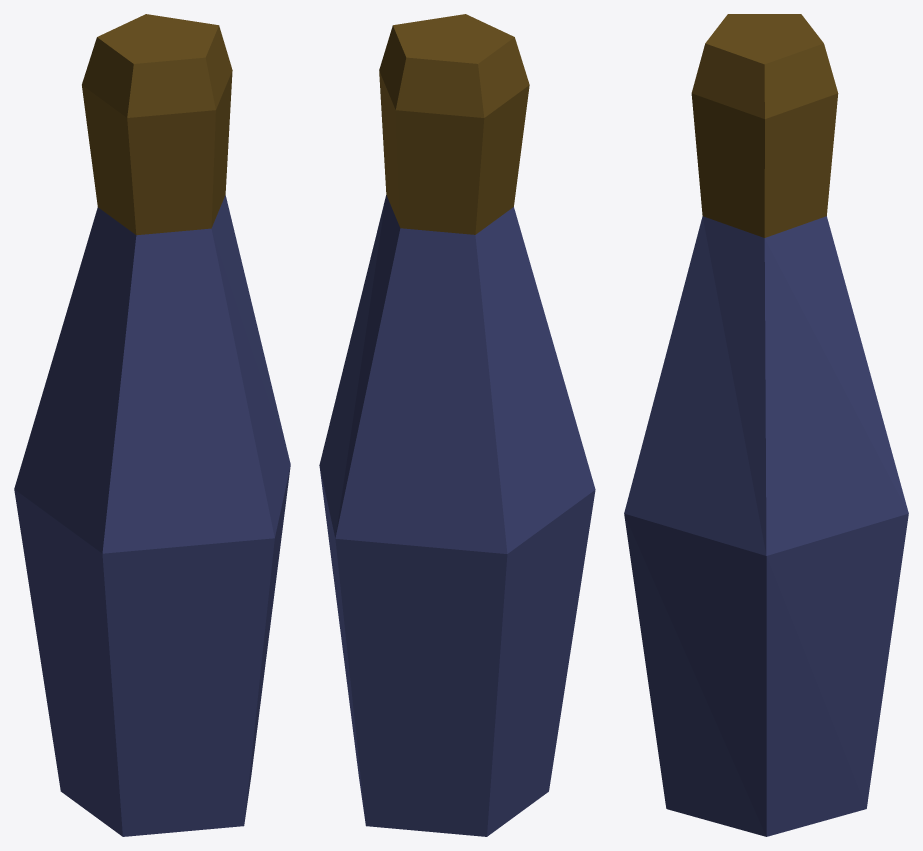
File: ITMI_ALCHEMY_ALCOHOL_01.OBJ
The picture shows the model from 3 angles, left to right: view 1: azimuth 30°, elevation 25°; view 2: azimuth 150°, elevation 25°; view 3: azimuth 270°, elevation 25°; orthographic projection.
Parts seen in each view (by area): view 1: ITMI_ALCHEMY_ALCOHOL_01; view 2: ITMI_ALCHEMY_ALCOHOL_01; view 3: ITMI_ALCHEMY_ALCOHOL_01.
Part boxes in pixels (x1,y1,x2,y2): ITMI_ALCHEMY_ALCOHOL_01: [14, 14, 290, 836]; ITMI_ALCHEMY_ALCOHOL_01: [319, 14, 595, 836]; ITMI_ALCHEMY_ALCOHOL_01: [624, 14, 908, 836].
Bounding box in the file's own units: 0.0821 × 0.2562 × 0.0874.
